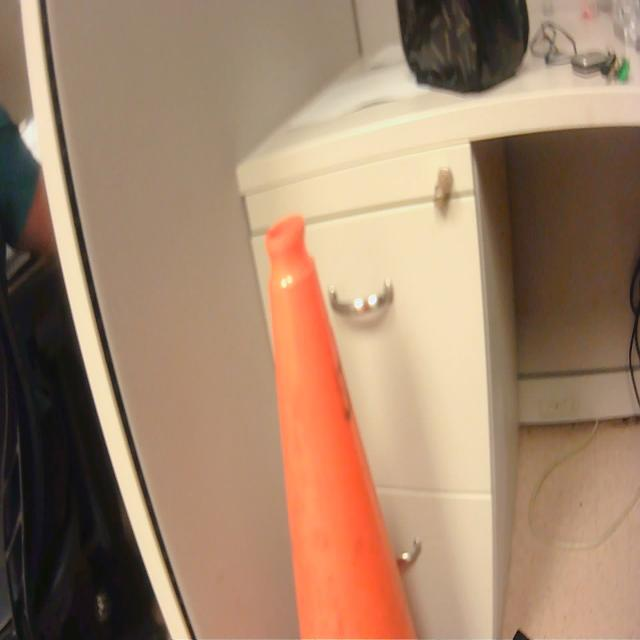traffic cone: (259, 202, 434, 640)
